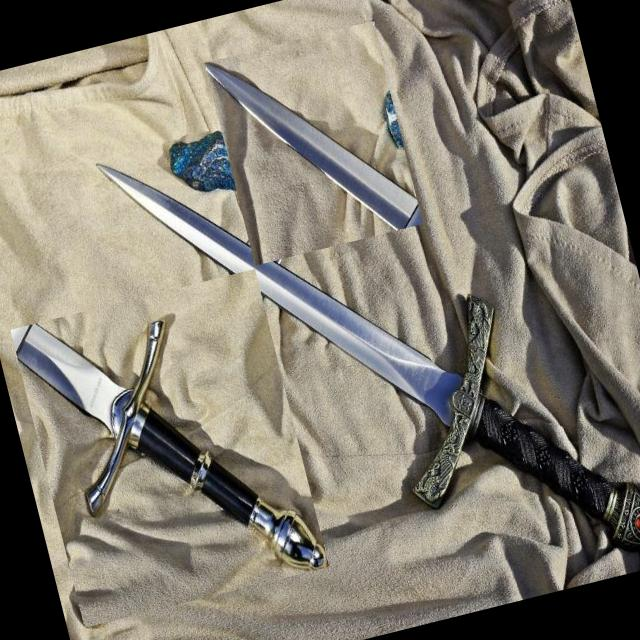Knife: (99, 165, 640, 550), (18, 321, 327, 570), (204, 63, 418, 230)
